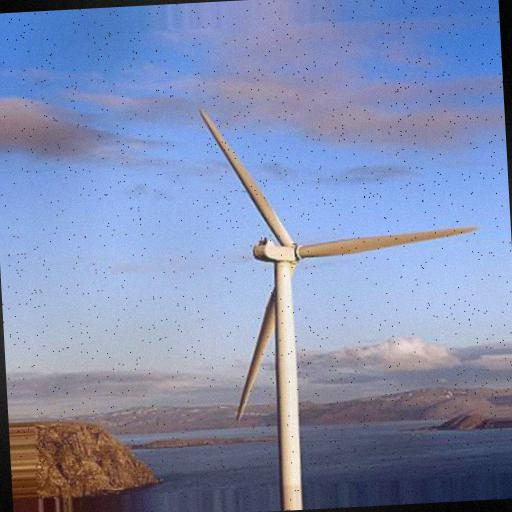wind turbine: (196, 106, 482, 507)
